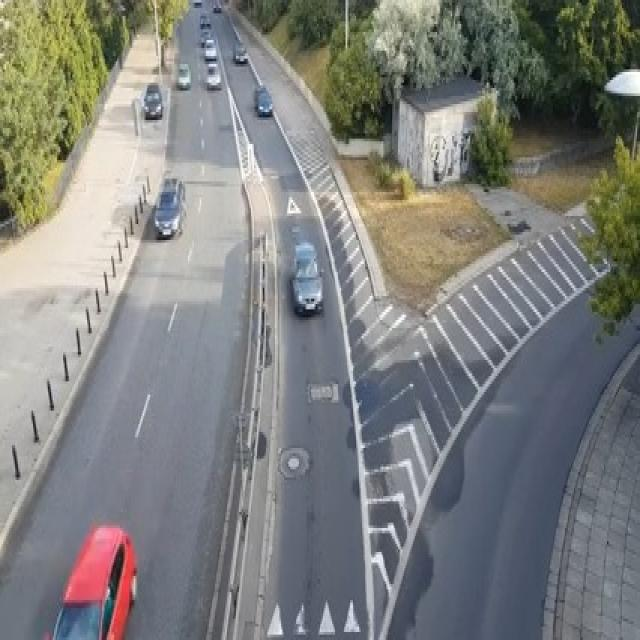car: (50, 523, 136, 637), (290, 240, 323, 315), (154, 174, 186, 238), (141, 83, 162, 117), (252, 82, 274, 114), (206, 61, 221, 88), (177, 61, 191, 88), (204, 37, 217, 59), (233, 40, 246, 61), (200, 27, 212, 45), (198, 10, 210, 27), (212, 2, 221, 10), (192, 0, 201, 5)
